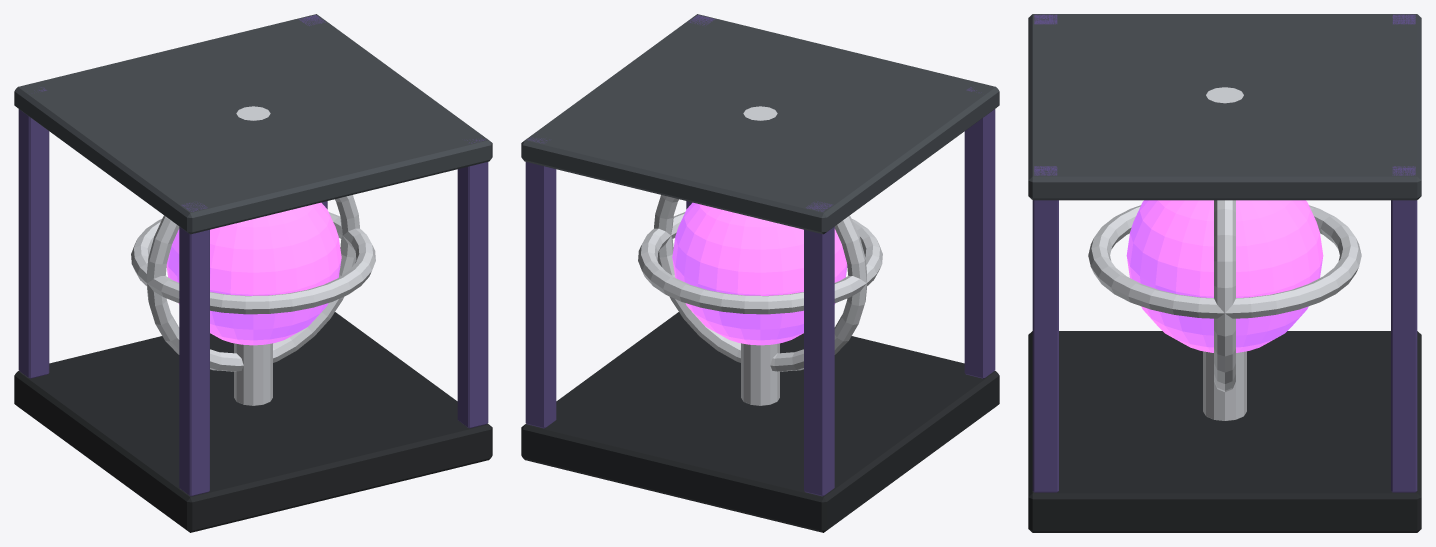
Rendered from quantum_core.glb.
The picture shows the model from 3 angles, left to right: view 1: azimuth 30°, elevation 25°; view 2: azimuth 150°, elevation 25°; view 3: azimuth 270°, elevation 25°; orthographic projection. The views are drawn at different scales.
Parts seen in each view (by area): view 1: quantum_core; view 2: quantum_core; view 3: quantum_core.
Boxes of the visible parts, x1,y1,x2,y2 form: quantum_core: (14, 14, 492, 532); quantum_core: (521, 14, 999, 532); quantum_core: (1028, 14, 1421, 532).
Bounding box in the file's own units: 0.9 × 0.9 × 0.9.
